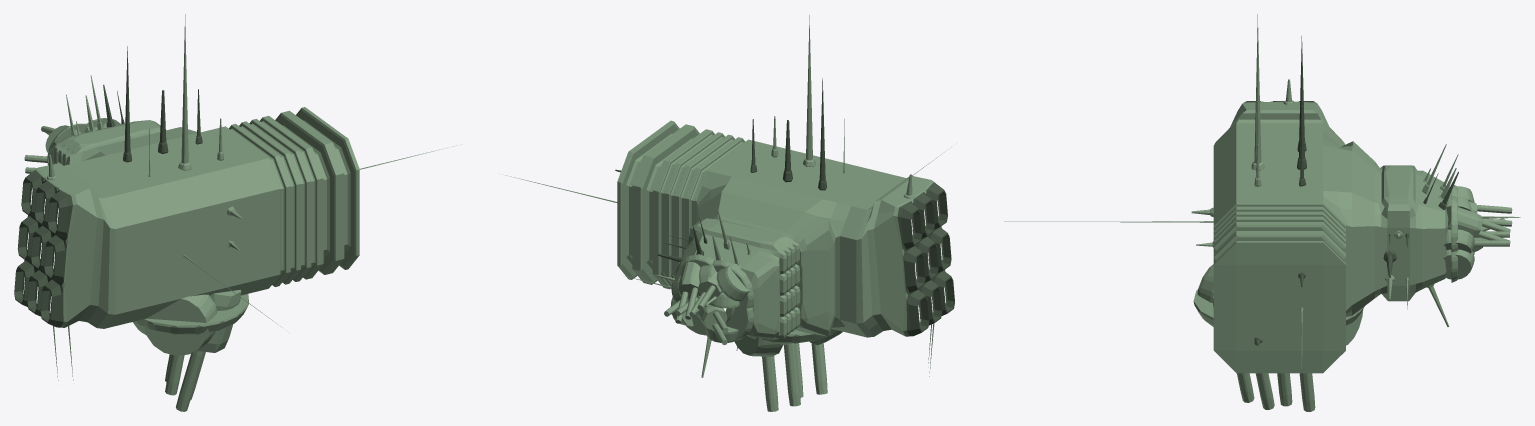
File: pvais1.fbx
The picture shows the model from 3 angles, left to right: view 1: azimuth 30°, elevation 25°; view 2: azimuth 150°, elevation 25°; view 3: azimuth 270°, elevation 25°; orthographic projection. The views are drawn at different scales.
Parts seen in each view (by area): view 1: Spaceship; view 2: Spaceship; view 3: Spaceship.
Boxes of the visible parts, <box> form: Spaceship: <box>14,14,454,411</box>; Spaceship: <box>506,15,954,411</box>; Spaceship: <box>1004,14,1520,411</box>.
Size of the model in its own units: 574 by 483 by 592.
